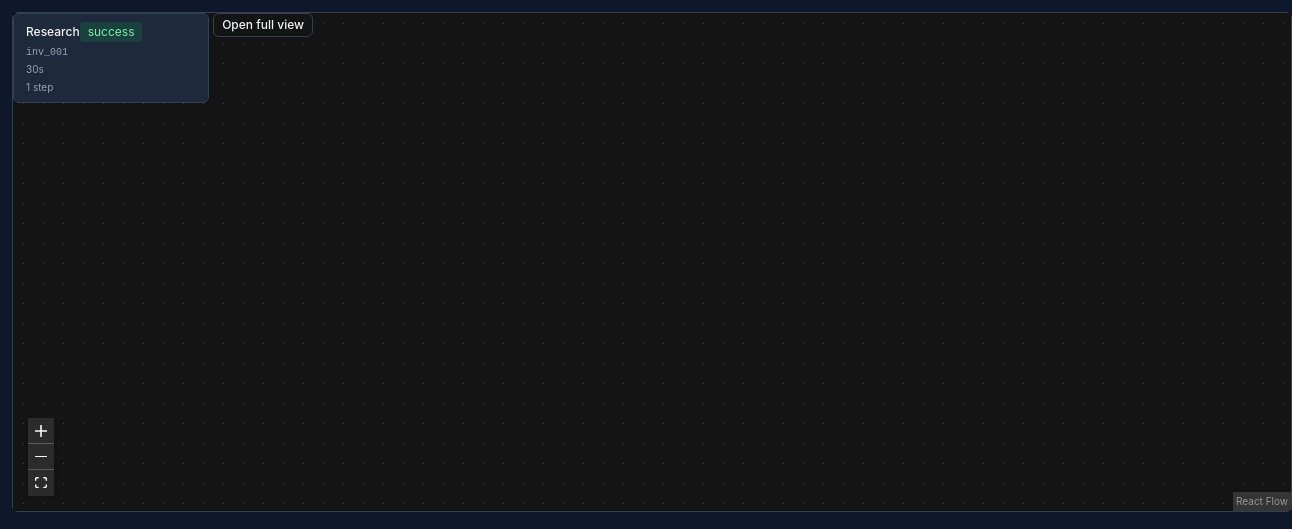
Test: InvocationGraph › clicking a group expands it and shows step nodes
Click the button with test id "invocation-node-inv_001": (111, 58) [13,13,209,103]
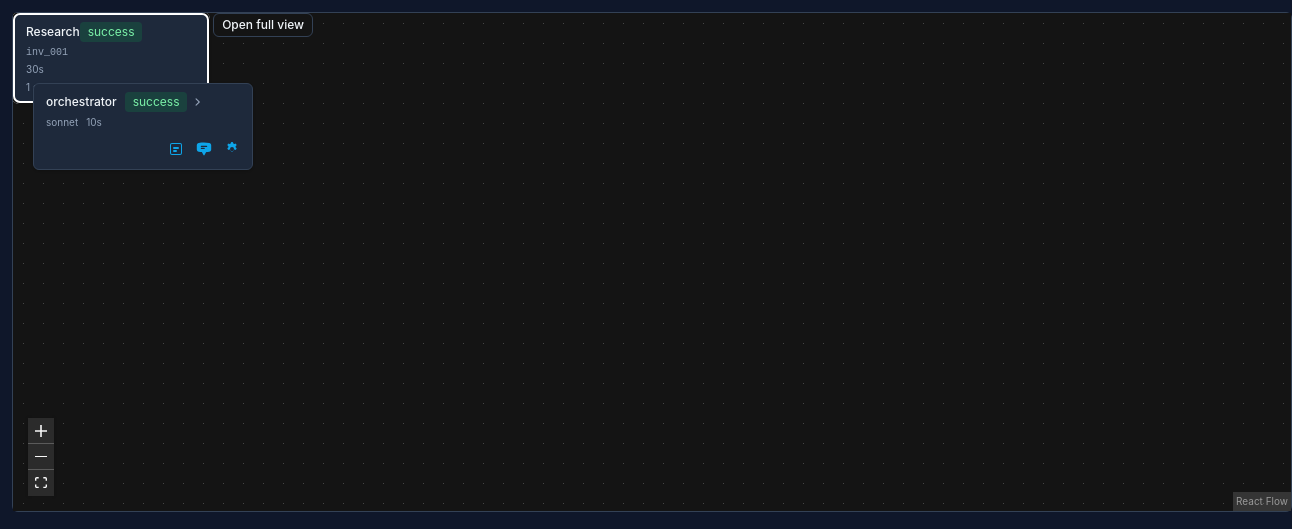
Now the element with test id "workflow-node-inv_001-orchestrator" is shown, box [33,83,253,170]
